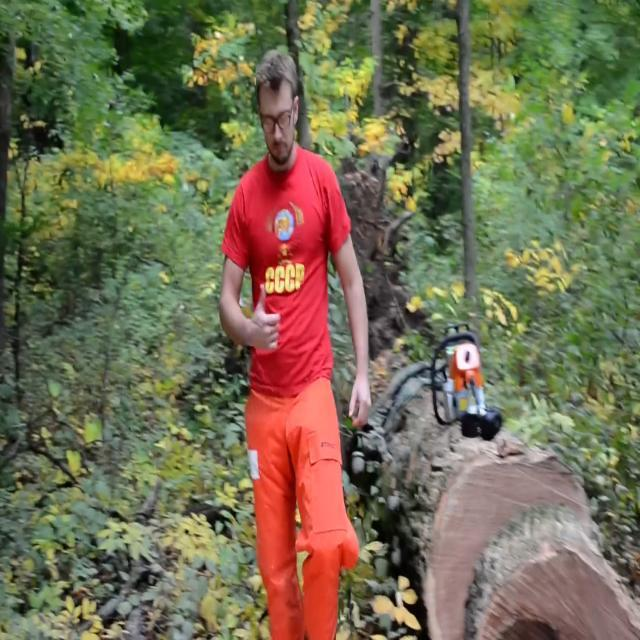Chainsaw: (423, 306, 512, 448)
